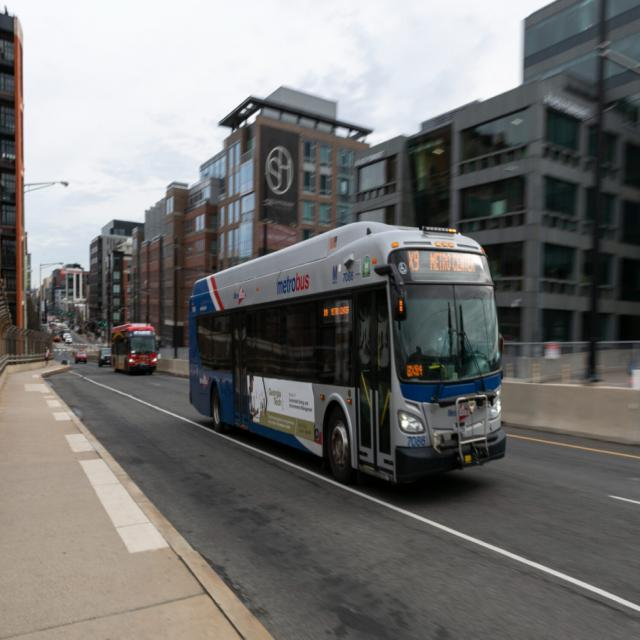bus: (188, 214, 514, 510), (109, 322, 160, 378)
